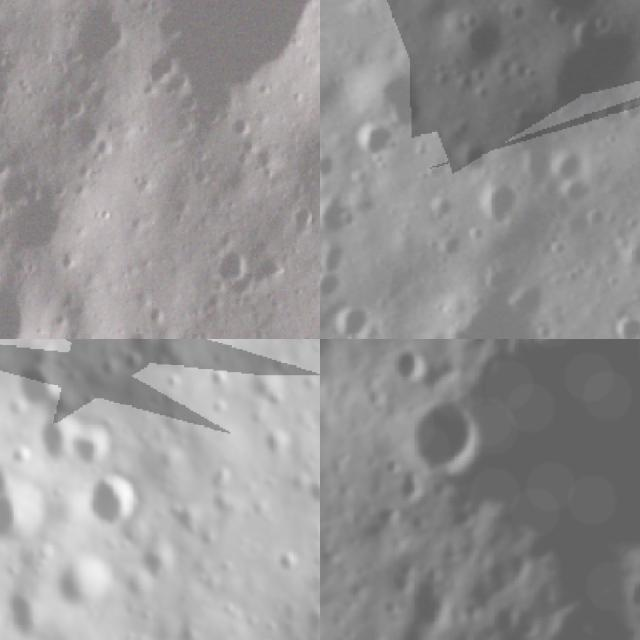crater: (121, 0, 320, 114), (344, 41, 448, 143), (434, 0, 520, 82), (406, 405, 495, 480), (482, 0, 640, 38), (2, 190, 67, 262), (64, 0, 127, 73), (49, 551, 115, 616), (0, 462, 48, 544), (9, 356, 69, 414), (84, 474, 143, 532), (475, 175, 533, 233), (342, 112, 398, 167), (0, 584, 54, 640), (324, 292, 376, 339), (33, 413, 77, 464), (69, 420, 110, 470), (320, 233, 355, 282), (450, 137, 491, 178), (213, 242, 251, 286), (598, 304, 640, 339), (141, 542, 175, 585), (395, 348, 429, 390), (259, 428, 296, 466), (222, 113, 255, 149), (250, 142, 282, 176), (275, 549, 306, 583), (291, 201, 320, 235), (320, 265, 344, 304), (320, 146, 341, 186), (113, 323, 164, 339), (120, 350, 145, 377), (96, 355, 120, 382), (208, 363, 230, 389), (305, 477, 320, 509), (384, 456, 406, 477), (320, 161, 327, 201), (340, 451, 354, 471)
